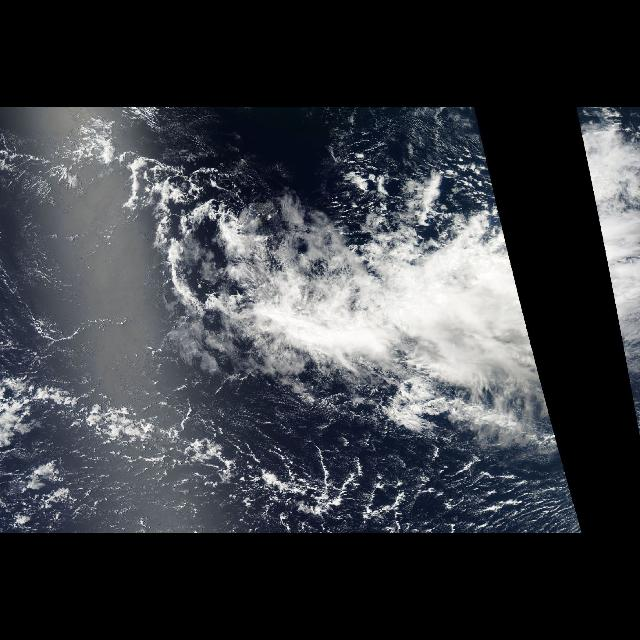Fish: (13, 366, 409, 532)
